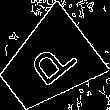P_SW: (18, 34, 78, 94)
